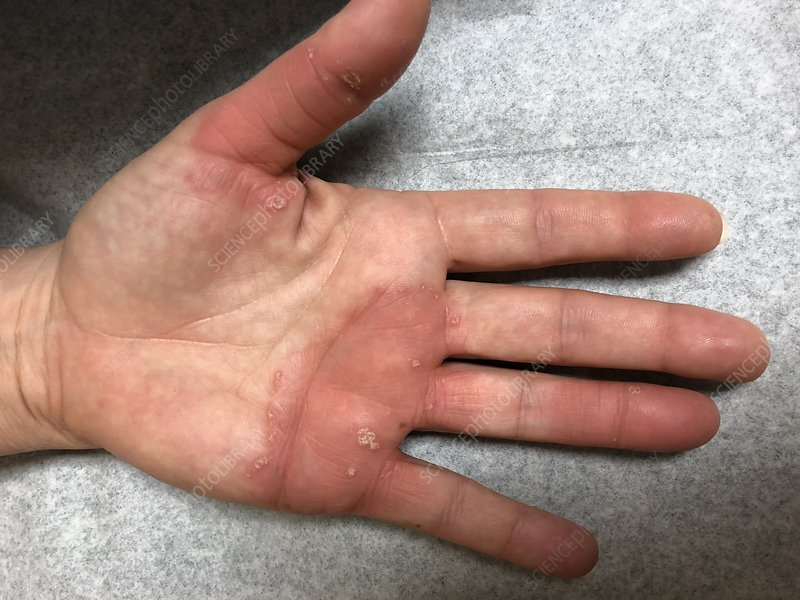Diseased: (239, 68, 622, 530)
